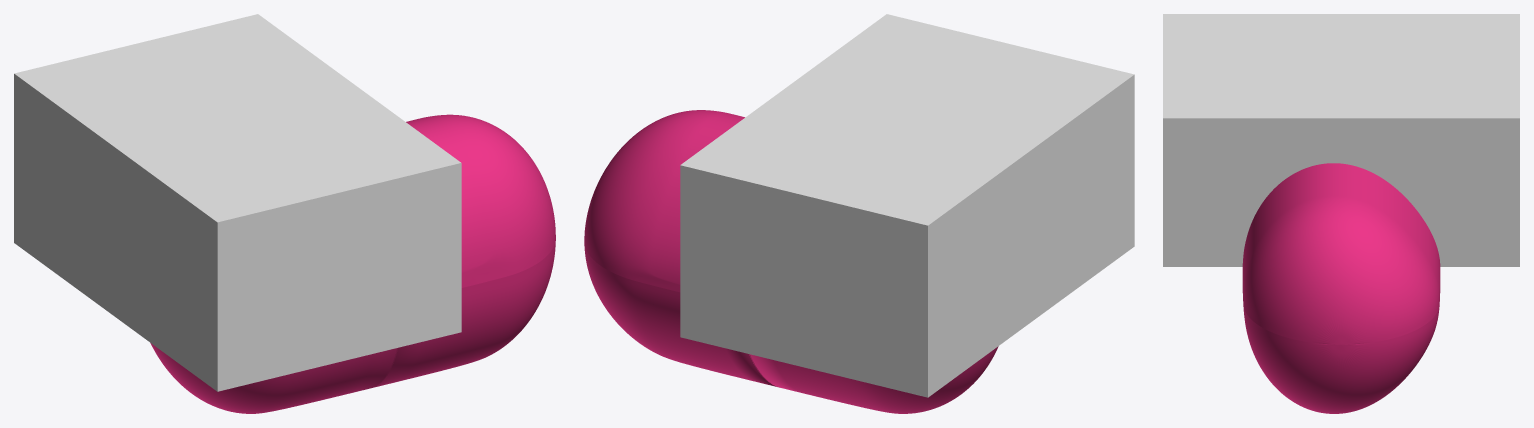
File: Mitochondria.fbx
3 renders of one model, left to right at view 1: azimuth 30°, elevation 25°; view 2: azimuth 150°, elevation 25°; view 3: azimuth 270°, elevation 25°, orthographic. The views are drawn at different scales.
Parts seen in each view (by area): view 1: Cube, Mitochondria Exterior; view 2: Cube, Mitochondria Exterior; view 3: Cube, Mitochondria Exterior.
Boxes of the visible parts, x1,y1,x2,y2 form: Cube: (14, 14, 461, 391); Mitochondria Exterior: (150, 114, 555, 413); Cube: (680, 14, 1134, 397); Mitochondria Exterior: (584, 110, 998, 413); Cube: (1163, 14, 1519, 266); Mitochondria Exterior: (1242, 163, 1440, 413).
Size of the model in its own units: 516 by 334 by 428.
